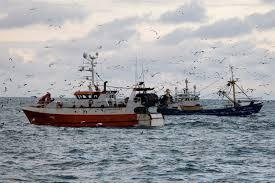Ship: (18, 59, 167, 130), (158, 72, 267, 118)
